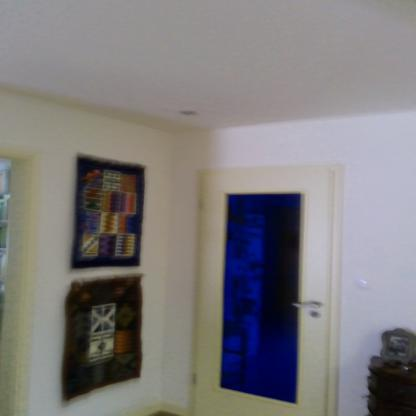door: (201, 171, 330, 415)
hinged: (192, 369, 198, 385), (198, 196, 204, 210)
lever: (291, 300, 322, 310)
